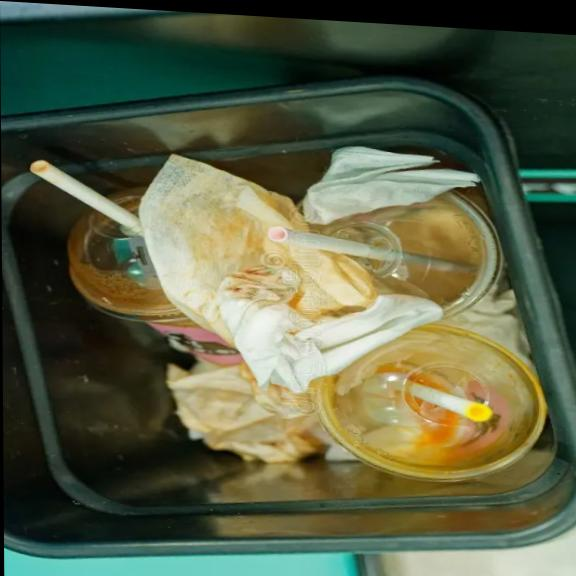Plastik: (315, 324, 546, 480), (68, 209, 241, 364), (322, 191, 502, 314), (68, 209, 194, 325)
